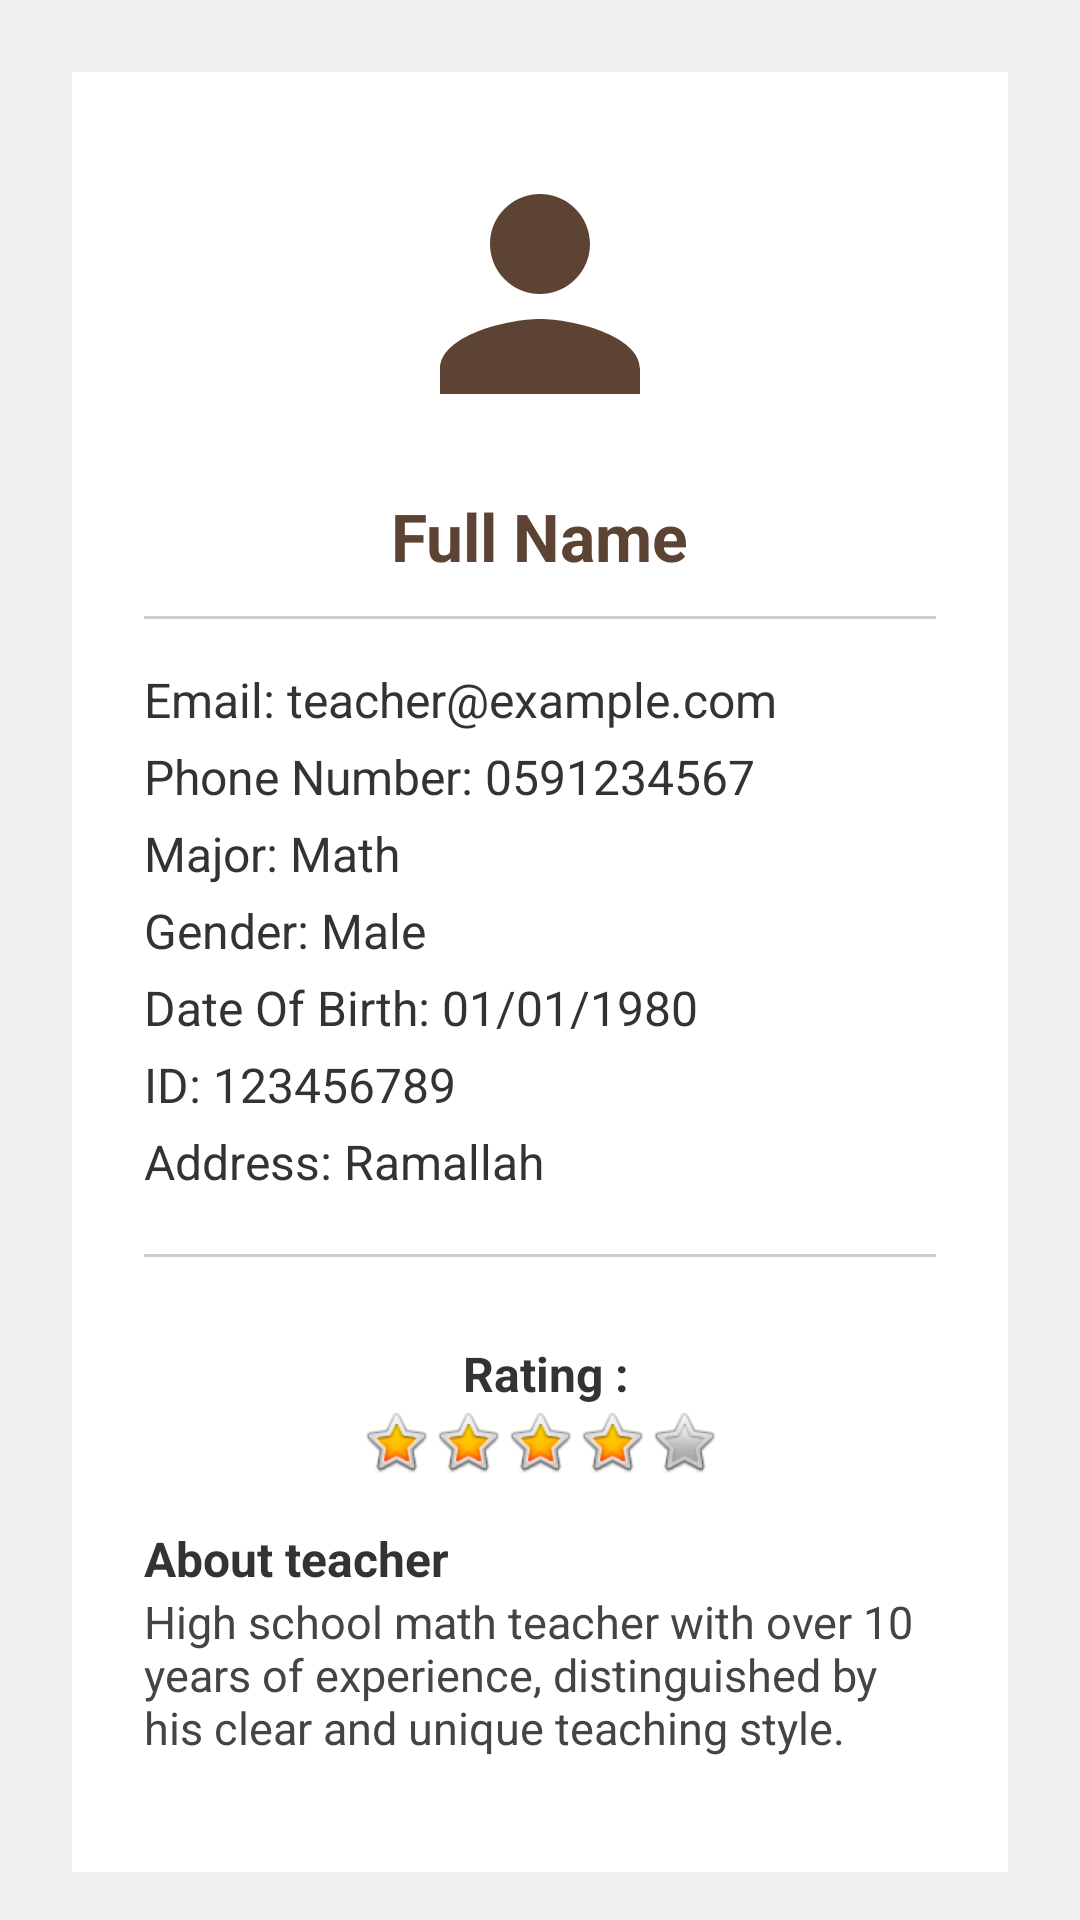

Icon click points for this 1080x1920 phone screenshot, format (x=x, y=y):
Profile Icon: (x=540, y=294)
star off: (x=685, y=1442)
star on: (x=397, y=1442), (x=469, y=1442), (x=541, y=1442), (x=613, y=1442)
